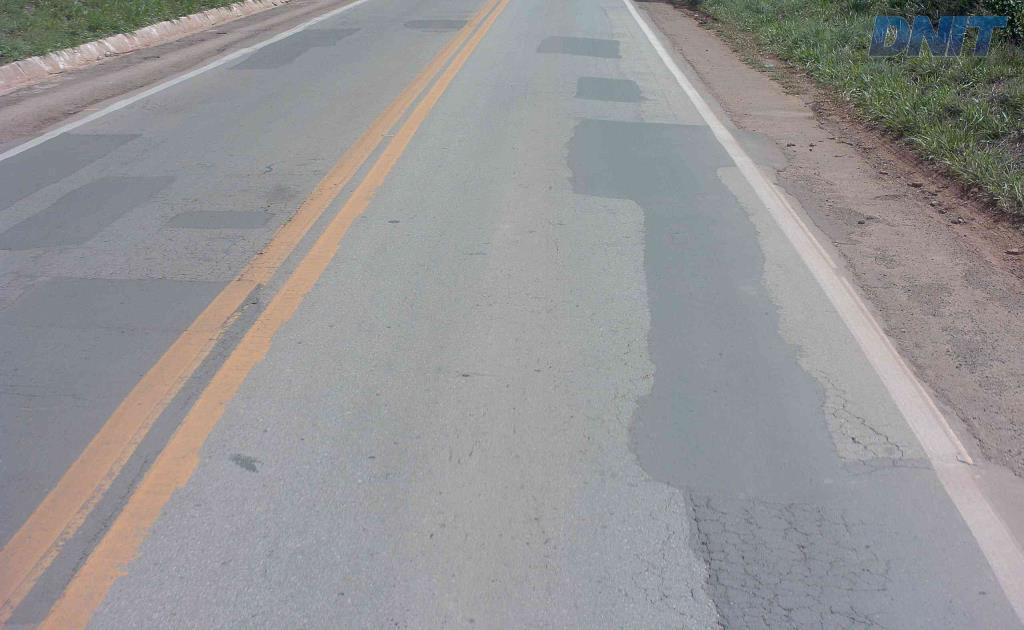crack: (689, 493, 734, 629), (750, 573, 805, 627)
